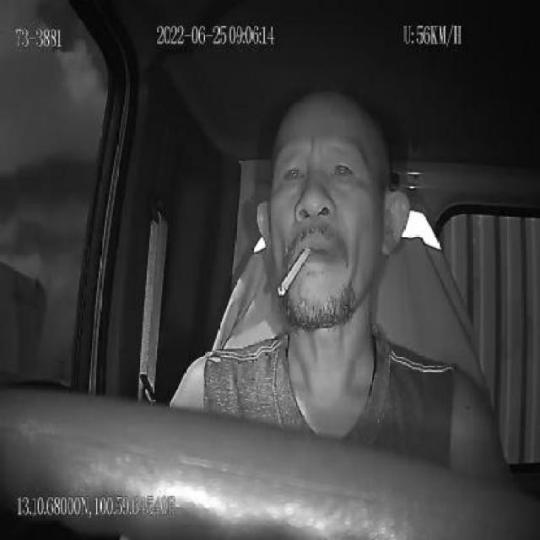smoking: (278, 247, 310, 300)
